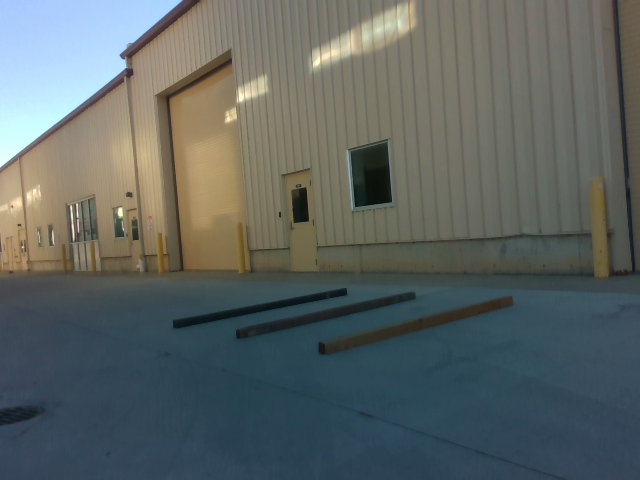Dunnage: (151, 271, 538, 362)
